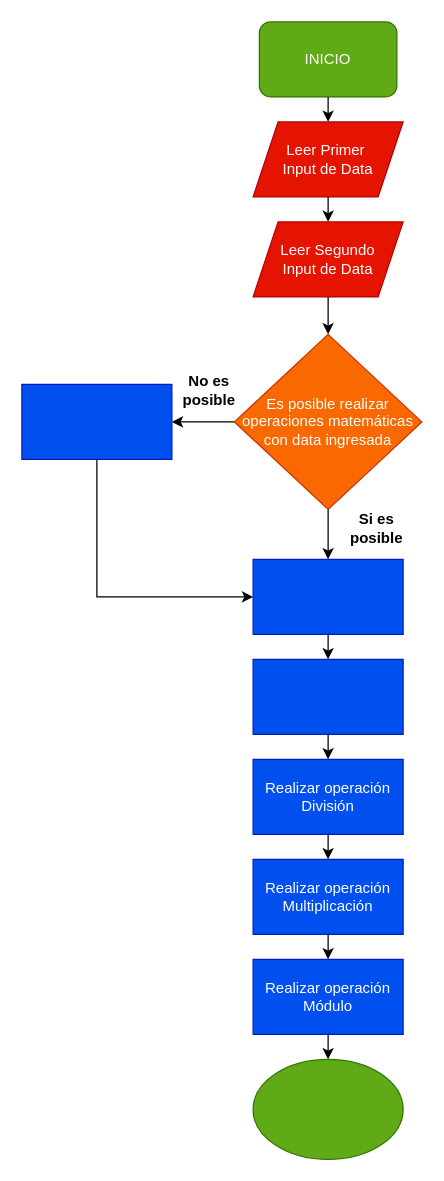
Image size: 444x1181. Some labels were removed from this diagram. The shapes that lost their labels are listed below. From the top down, each one's centre as x and y in pixels, then its label:
[96,421]: Realizar Conversión a números
[327,596]: Realizar operación suma
[327,696]: Realizar operación Resta
[327,1108]: FIN
